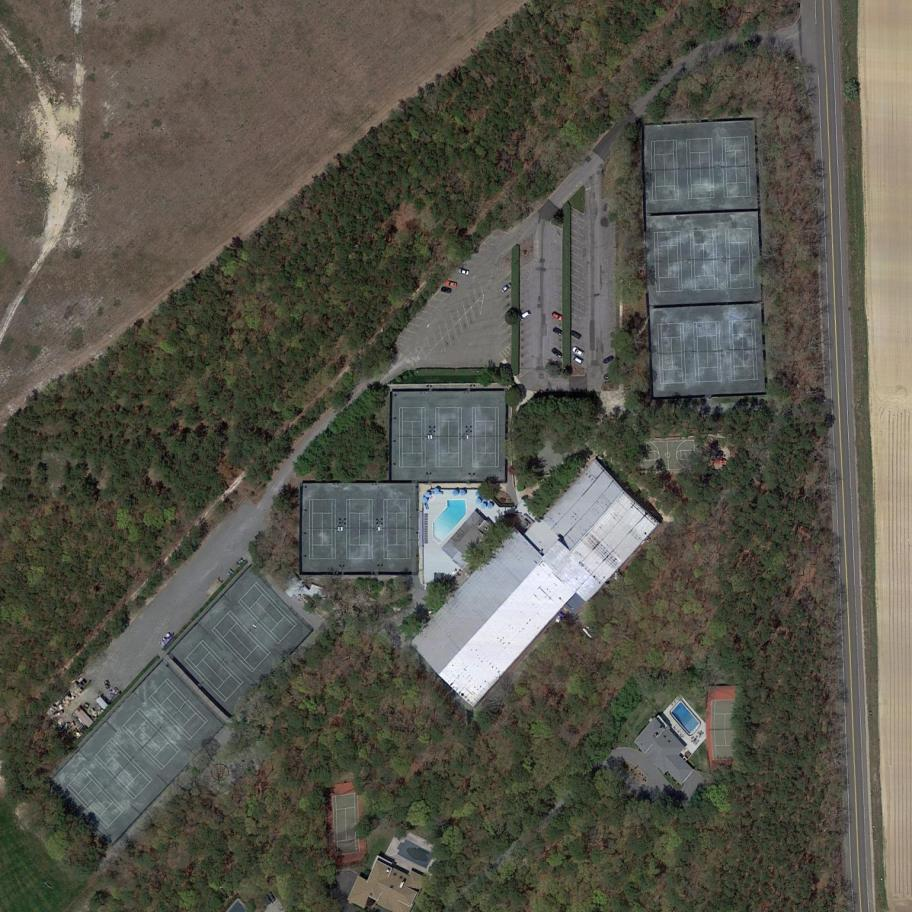small-vehicle: (500, 281, 514, 295), (571, 346, 586, 358), (551, 346, 564, 359), (551, 310, 565, 322), (519, 309, 533, 321), (455, 267, 471, 277), (571, 355, 585, 366), (602, 354, 615, 365), (552, 326, 563, 336), (571, 331, 583, 340), (441, 286, 453, 295), (603, 372, 614, 381), (447, 280, 458, 288)
